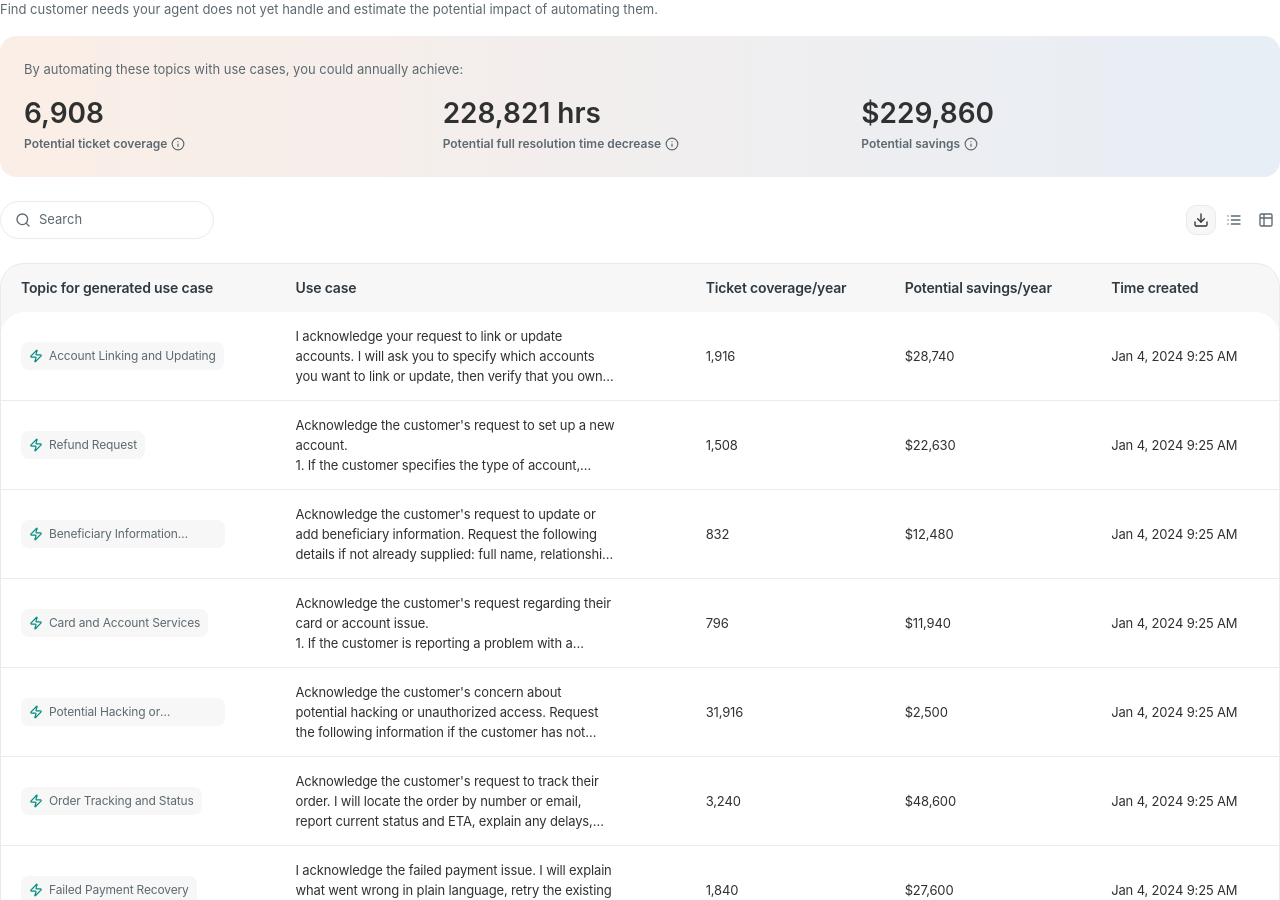
Test: UseCaseGapsView › restores focus to the row that opened Create Use case
Click the text "Card and Account Services" at [125, 622], box [49, 612, 200, 632]
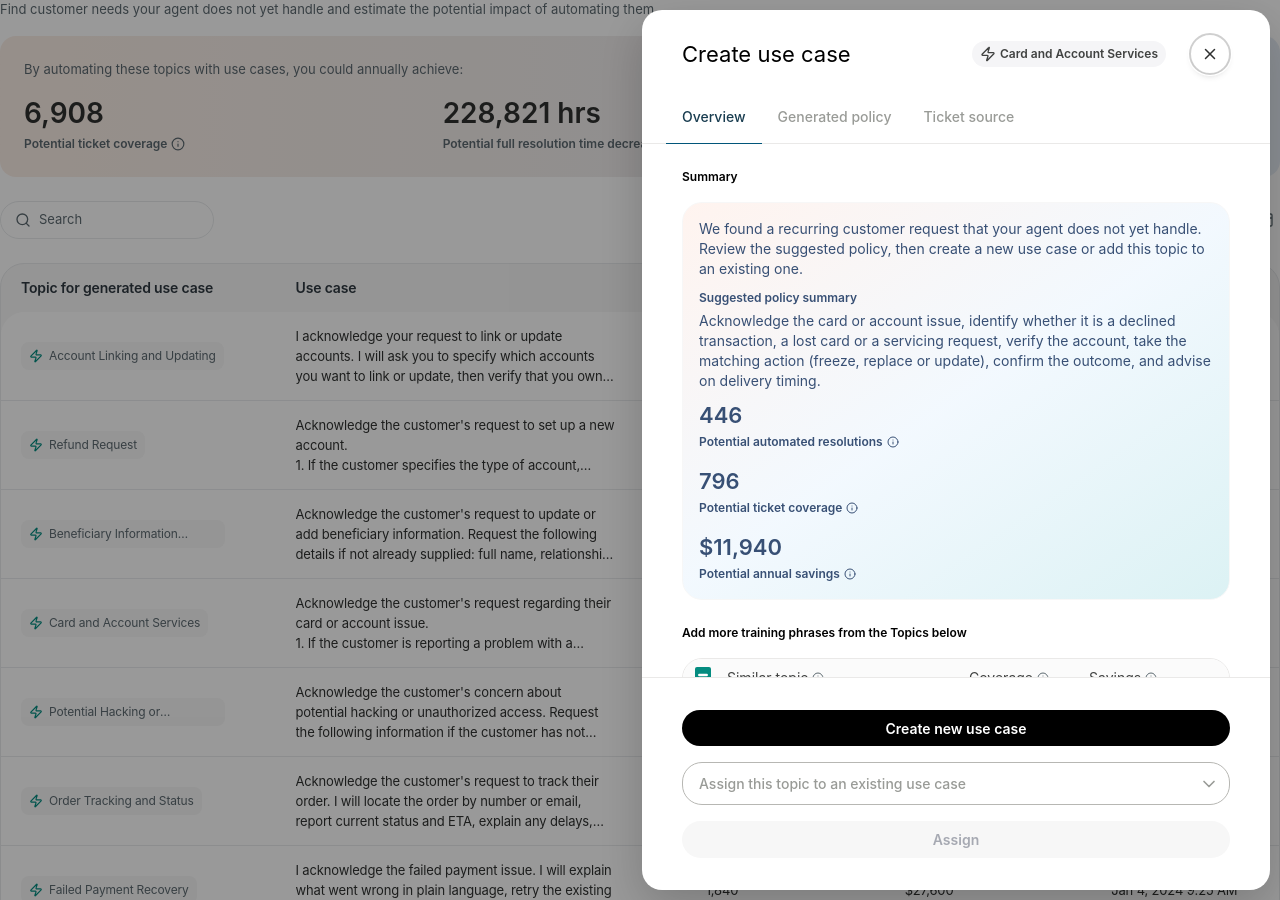
Click the button named "Close" at [1210, 54], box [1190, 34, 1230, 74]
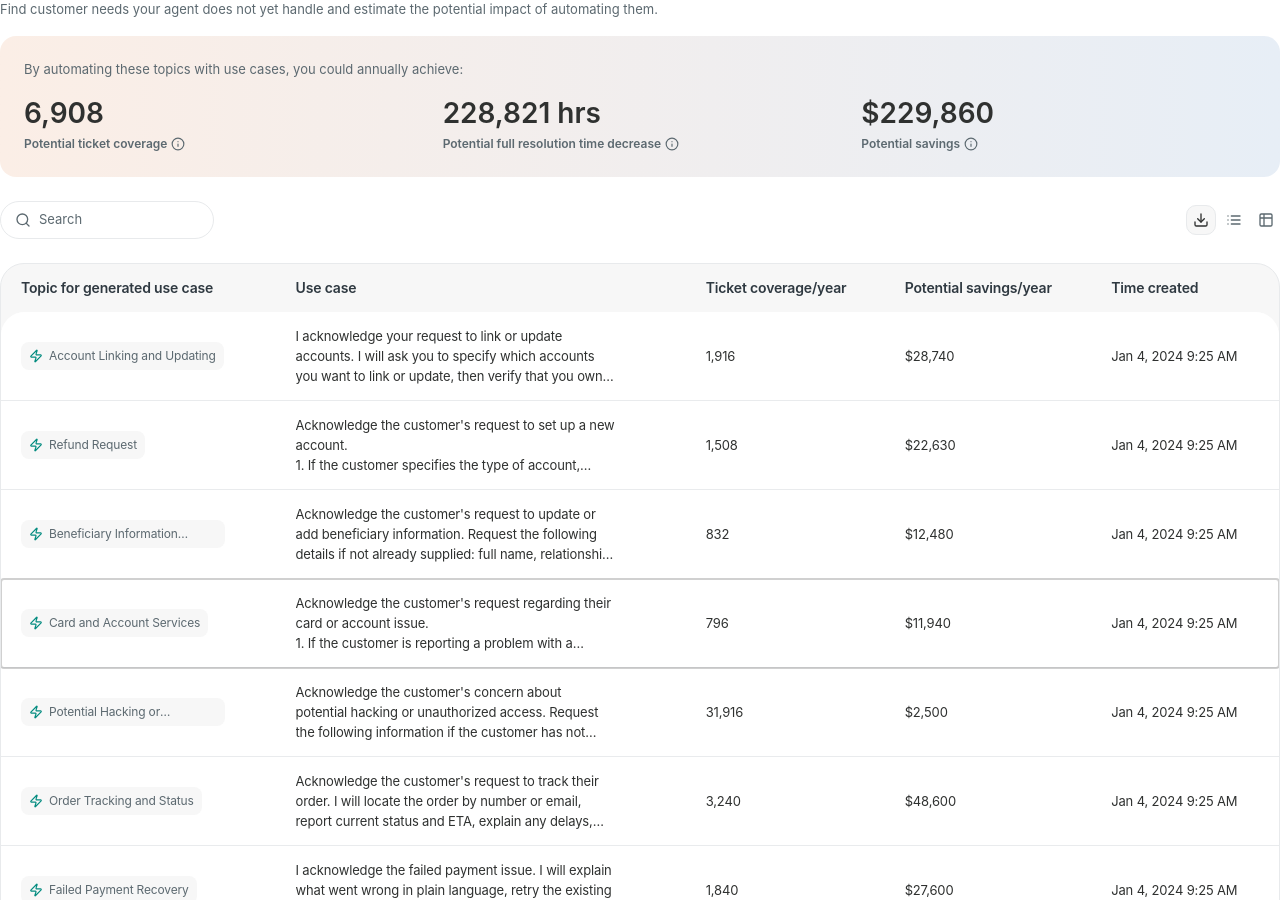
Expected: the text "Create use case" is gone
